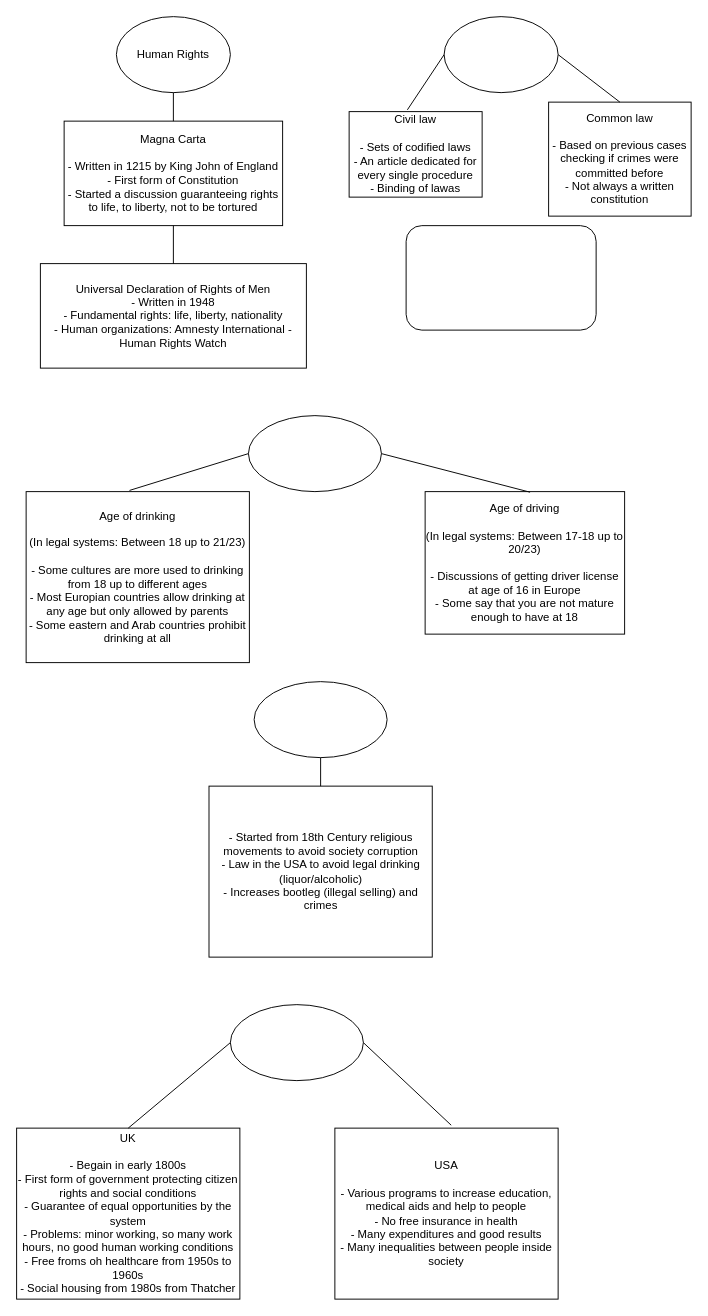
This 708x1316 diagram has some shape labels left out. Each missing label, with the centre of its shape:
Case study - Singapore: death penalty and a very strict legal system: pixel 500 277
Prohibition in the USA: pixel 320 719
Types of law: pixel 500 54
Welfare state (Stato sociale): pixel 296 1042
Young people's rights and duties: pixel 314 453
